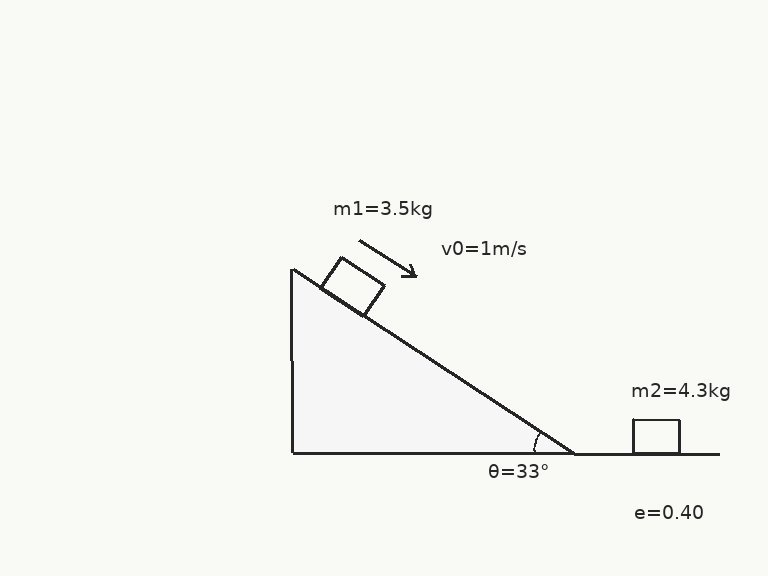block: (318, 255, 385, 318), (631, 417, 681, 455)
ramp: (289, 267, 576, 455)
